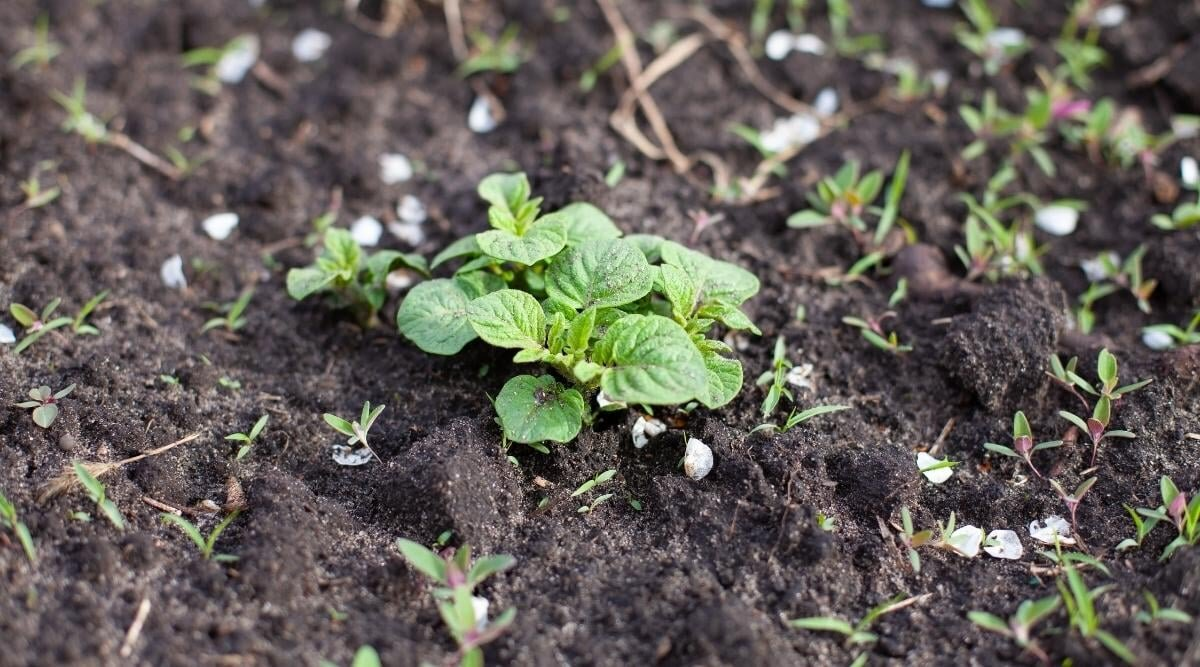potato_plant: (393, 169, 769, 442)
